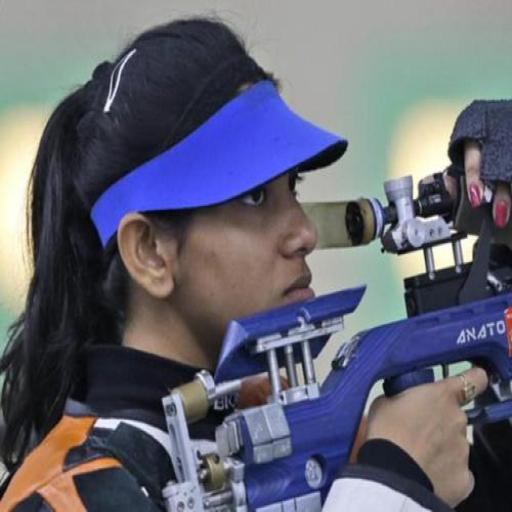shooting: (0, 14, 494, 510)
